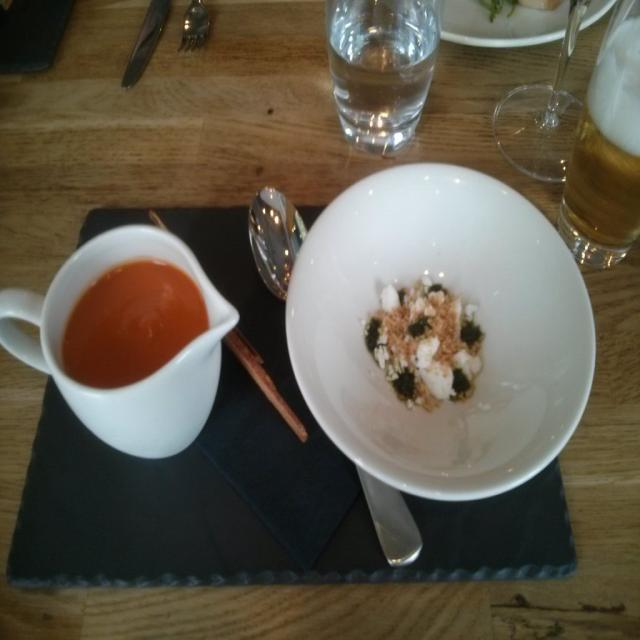Tea: (57, 258, 209, 392)
